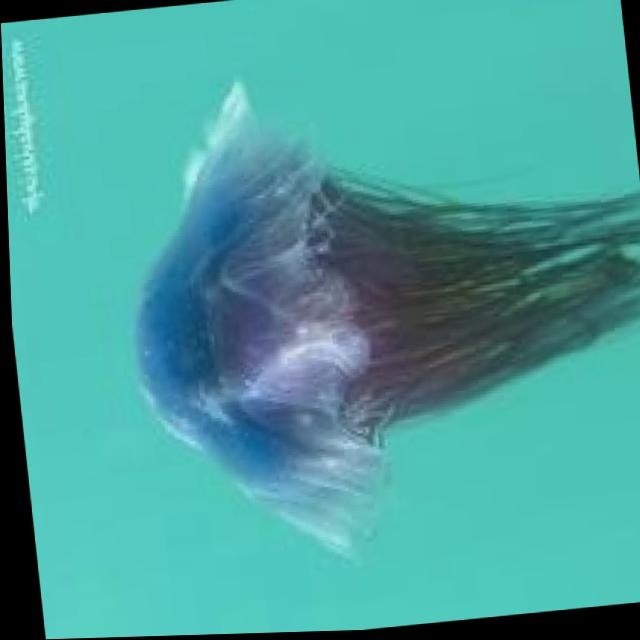Jellyfish: (97, 42, 640, 575)
